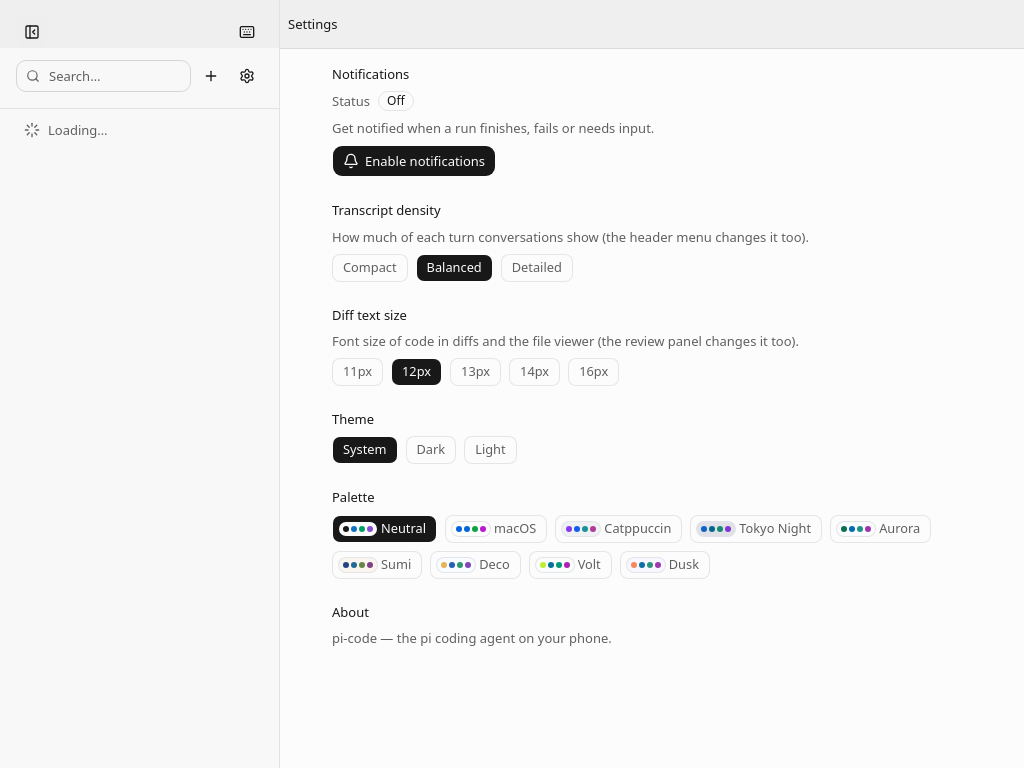
Settings · notifications › toasts upload failures (ApiError message)
Click the button "Enable notifications": (414, 161) [332,145,496,177]
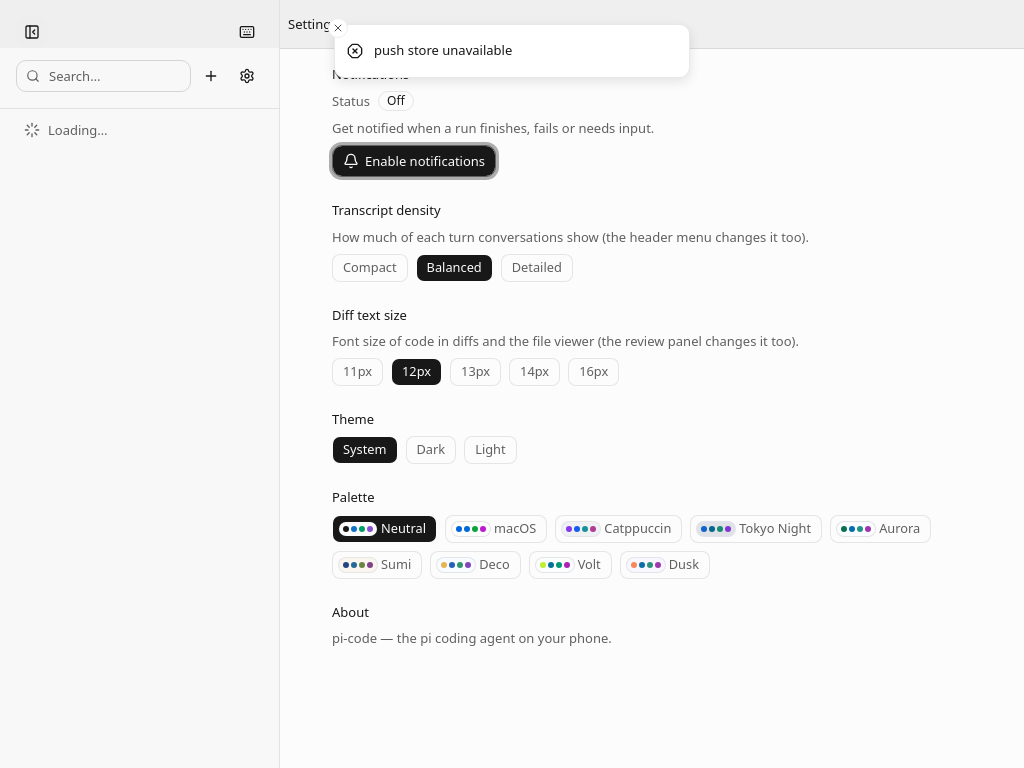
Expected: the icon with test id "push-state" reads "Off", [387,92,405,109]
Expected: the text "push store unavailable" is shown, [374,41,512,60]
